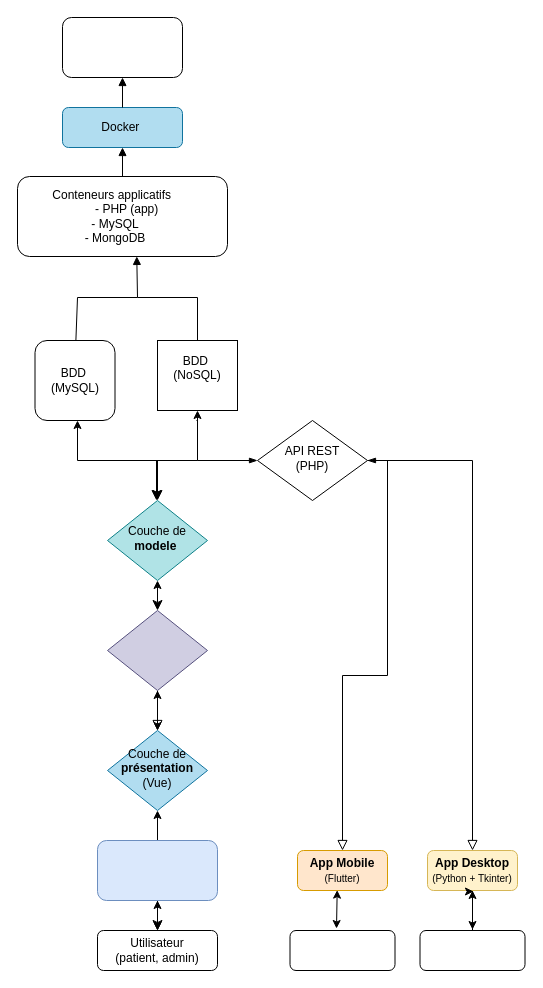
This 543x988 diagram has some shape labels left out. Here are the shapes that lost their labels. From the top down, the centre of each, then its label:
At pixel 122 47: "Fly.io (Cloud)".
At pixel 157 650: "Couche de controleur".
At pixel 157 870: "Application web (HTML, BOOTSTRAP)".
At pixel 342 950: "Utilisateur (médecin)".
At pixel 472 950: "Utilisateur (sécretaire)".
